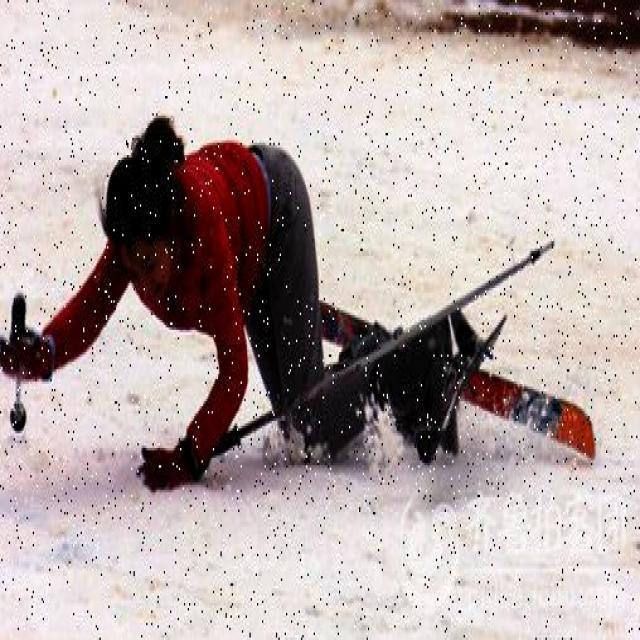fall: (28, 131, 440, 443)
